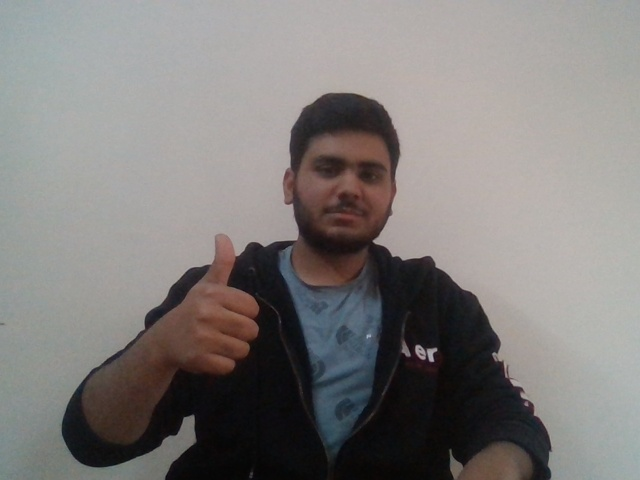Yes: (159, 229, 265, 381)
